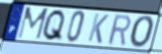0: (66, 10, 87, 45)
K: (86, 12, 110, 45)
M: (16, 7, 50, 41)
O: (128, 15, 156, 50)
Q: (41, 9, 67, 43)
R: (107, 14, 132, 47)
